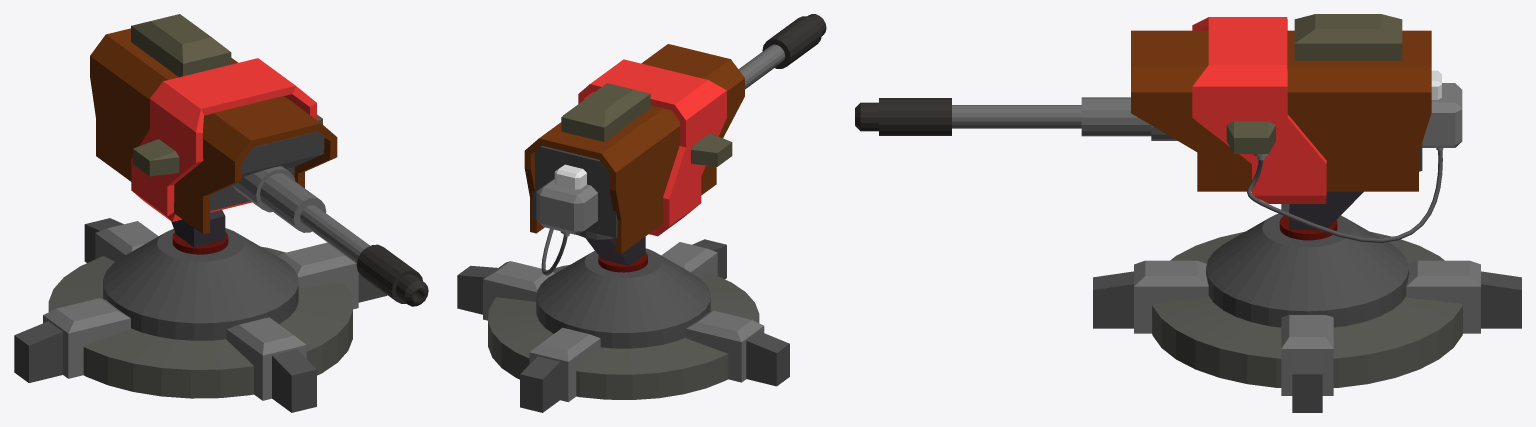
Rendered from Turret.fbx.
3 renders of one model, left to right at view 1: azimuth 30°, elevation 25°; view 2: azimuth 150°, elevation 25°; view 3: azimuth 270°, elevation 25°, orthographic. The views are drawn at different scales.
Visible parts, largest first — view 1: Куб.005, Цилиндр, Цилиндр.001, Куб.009, Куб.011, Куб.010, Цилиндр.003, Куб.006, Куб.002, Куб.003, Куб, Цилиндр.004 (+3 smaller); view 2: Куб.005, Цилиндр, Цилиндр.001, Куб.009, Куб.011, Куб.010, Куб.006, Куб.003, Куб, Куб.001, Куб.002, Цилиндр.004 (+6 smaller); view 3: Куб.005, Цилиндр, Цилиндр.001, Куб.009, Куб.010, Цилиндр.003, Куб.006, Куб.002, Цилиндр.004, Куб.011, Куб.001, Куб.003 (+4 smaller).
Part boxes in pixels (x1,y1,x2,y2): Куб.005: [90, 28, 337, 234]; Цилиндр: [48, 246, 352, 398]; Цилиндр.001: [103, 228, 298, 340]; Куб.009: [131, 58, 316, 221]; Куб.011: [43, 242, 358, 378]; Куб.010: [95, 221, 306, 400]; Цилиндр.003: [232, 166, 369, 263]; Куб.006: [131, 14, 231, 77]; Куб.002: [84, 218, 316, 412]; Куб.003: [14, 273, 387, 382]; Куб: [210, 131, 324, 210]; Цилиндр.004: [356, 244, 428, 306]; Куб.005: [524, 44, 744, 253]; Цилиндр: [488, 265, 759, 399]; Цилиндр.001: [536, 248, 710, 348]; Куб.009: [578, 59, 726, 236]; Куб.011: [483, 261, 764, 382]; Куб.010: [529, 242, 717, 402]; Куб.006: [561, 83, 650, 141]; Куб.003: [457, 265, 789, 386]; Куб: [532, 146, 617, 238]; Куб.001: [536, 179, 597, 234]; Куб.002: [520, 239, 726, 412]; Цилиндр.004: [762, 14, 826, 68]; Куб.005: [1131, 30, 1431, 191]; Цилиндр: [1152, 231, 1462, 387]; Цилиндр.001: [1206, 211, 1408, 327]; Куб.009: [1192, 17, 1326, 203]; Куб.010: [1134, 260, 1480, 333]; Цилиндр.003: [952, 97, 1177, 140]; Куб.006: [1294, 14, 1402, 60]; Куб.002: [1093, 271, 1521, 328]; Цилиндр.004: [855, 98, 951, 135]; Куб.011: [1281, 204, 1333, 395]; Куб.001: [1422, 83, 1462, 147]; Куб.003: [1292, 351, 1322, 412].
Size of the model in its own units: 373 by 289 by 580.
